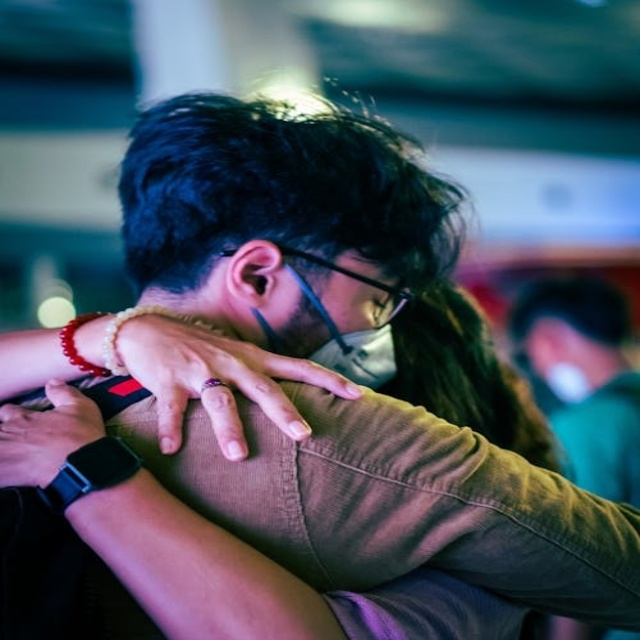Gafas: (222, 240, 416, 327)
Mascara: (302, 321, 400, 392)
Sin_guantes: (104, 307, 353, 459), (0, 378, 109, 492)
